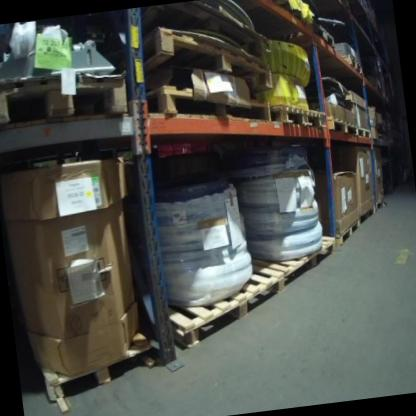pallet: (141, 14, 274, 105), (145, 71, 326, 137), (166, 263, 288, 351), (139, 0, 267, 72), (0, 64, 131, 128), (40, 333, 159, 403), (247, 227, 340, 294), (310, 16, 335, 50), (326, 113, 358, 138), (335, 219, 362, 244), (342, 52, 363, 77), (357, 205, 377, 226), (355, 123, 371, 140)
